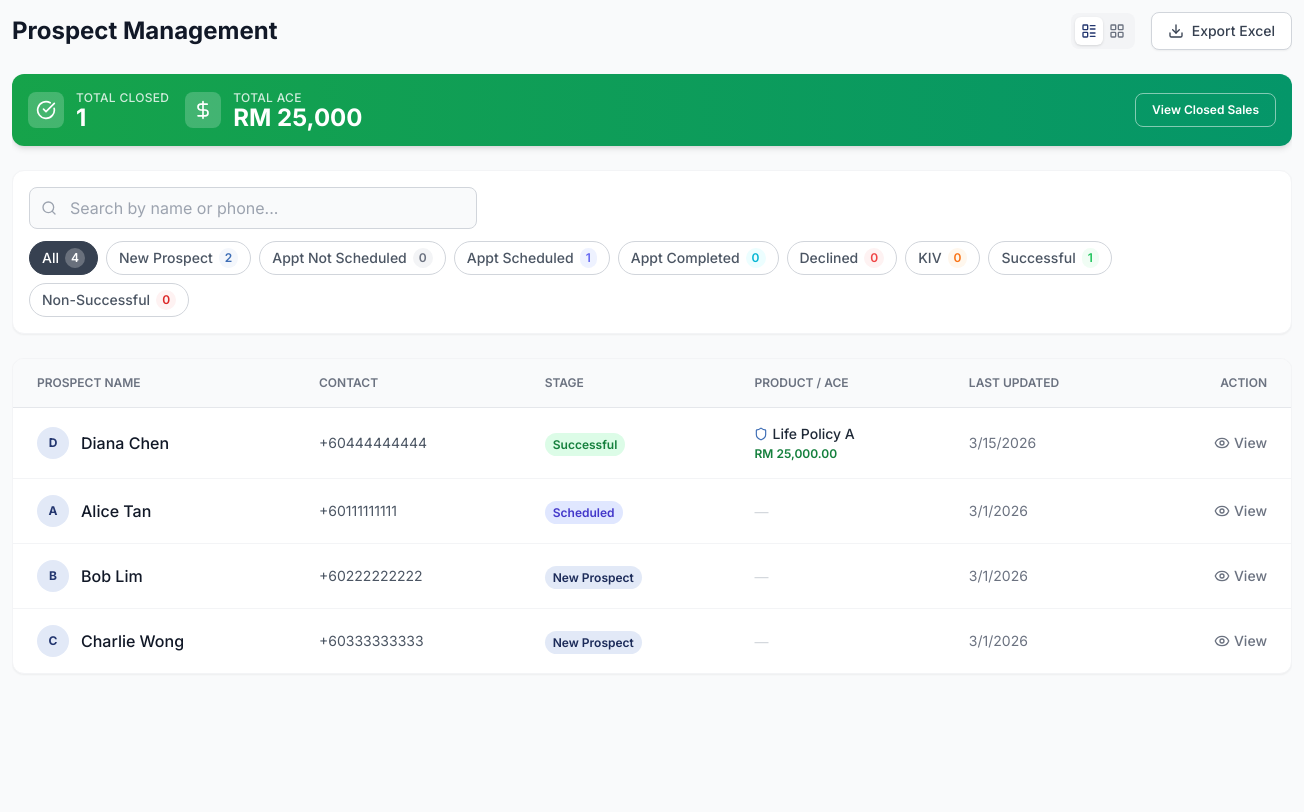
Scenario: Prospects — search filter › filters by phone number in real time
Expected: the text "Alice Tan" is shown, [81,499,151,523]
Type "+60222" into the field with placeholder "Search by name or phone...". click: (253, 208)
box: [29,187,477,229]
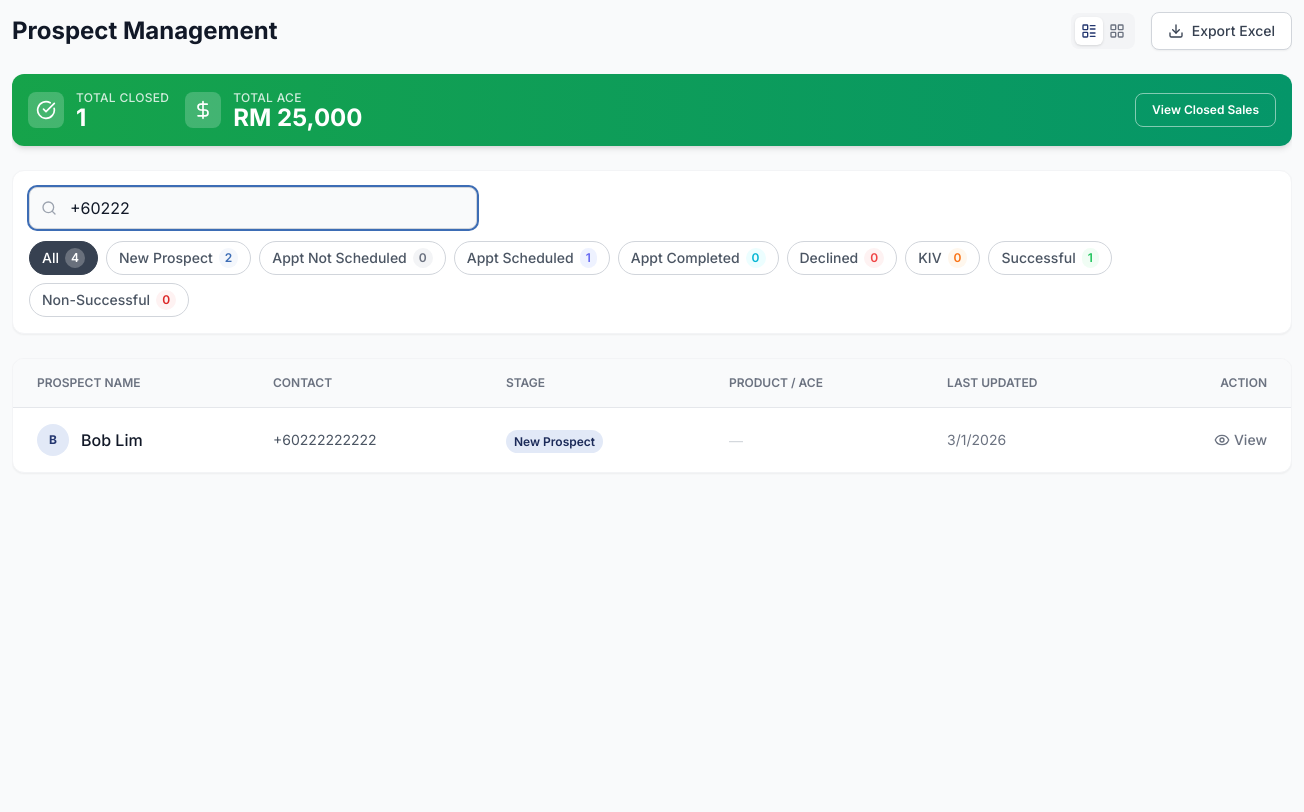
Expected: the text "Bob Lim" is shown, [81,428,143,452]
Now the text "Alice Tan" is gone
